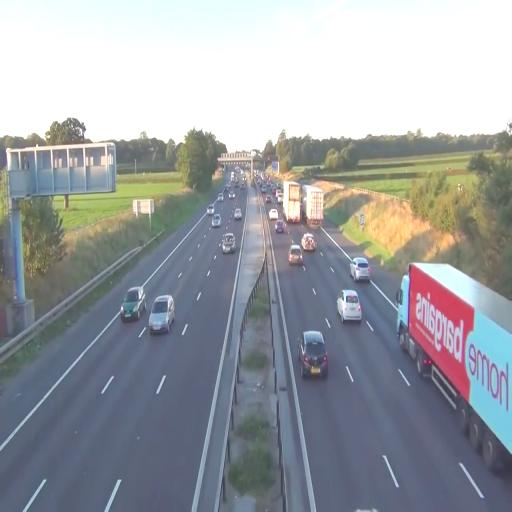vehicle: (396, 260, 512, 471), (300, 330, 328, 380), (149, 294, 175, 335), (120, 286, 146, 322), (336, 289, 362, 323), (284, 180, 300, 223), (352, 257, 372, 285), (288, 245, 304, 266), (221, 232, 236, 254), (301, 233, 316, 251), (211, 211, 221, 228), (275, 220, 286, 234)
